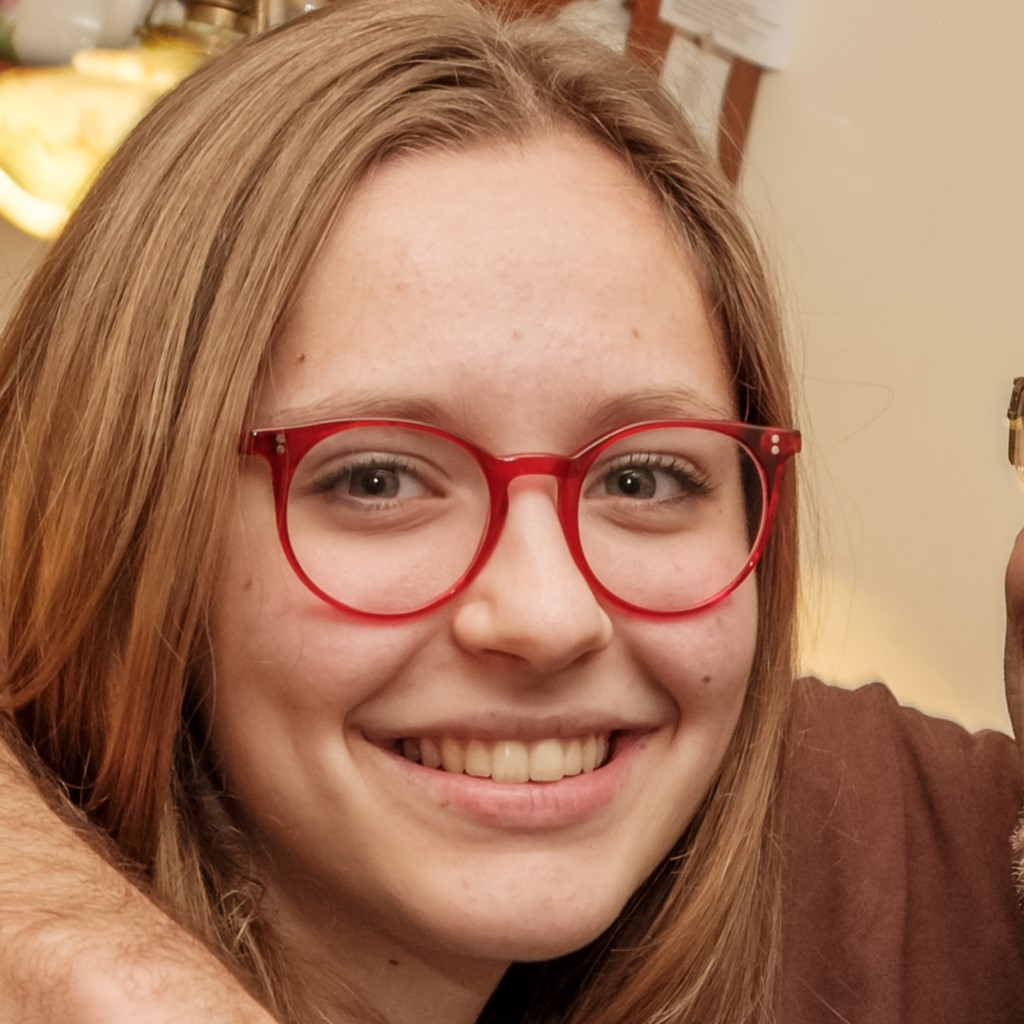sin_mascara: (189, 109, 754, 964)
